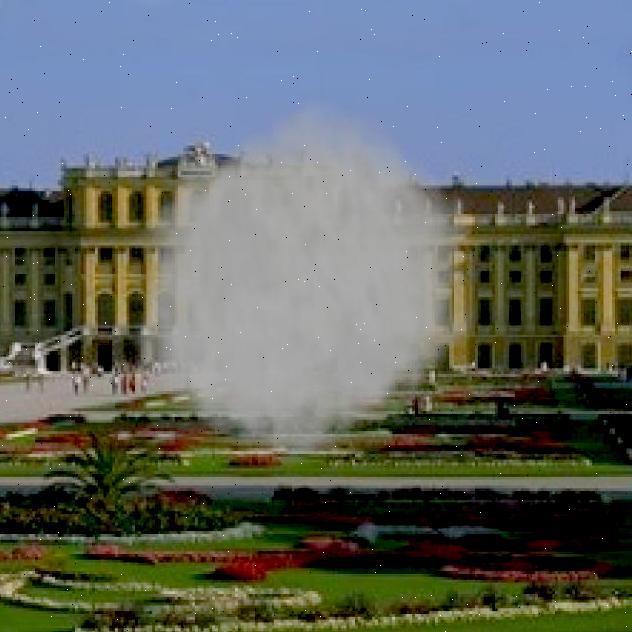smoke: (121, 91, 472, 474)
